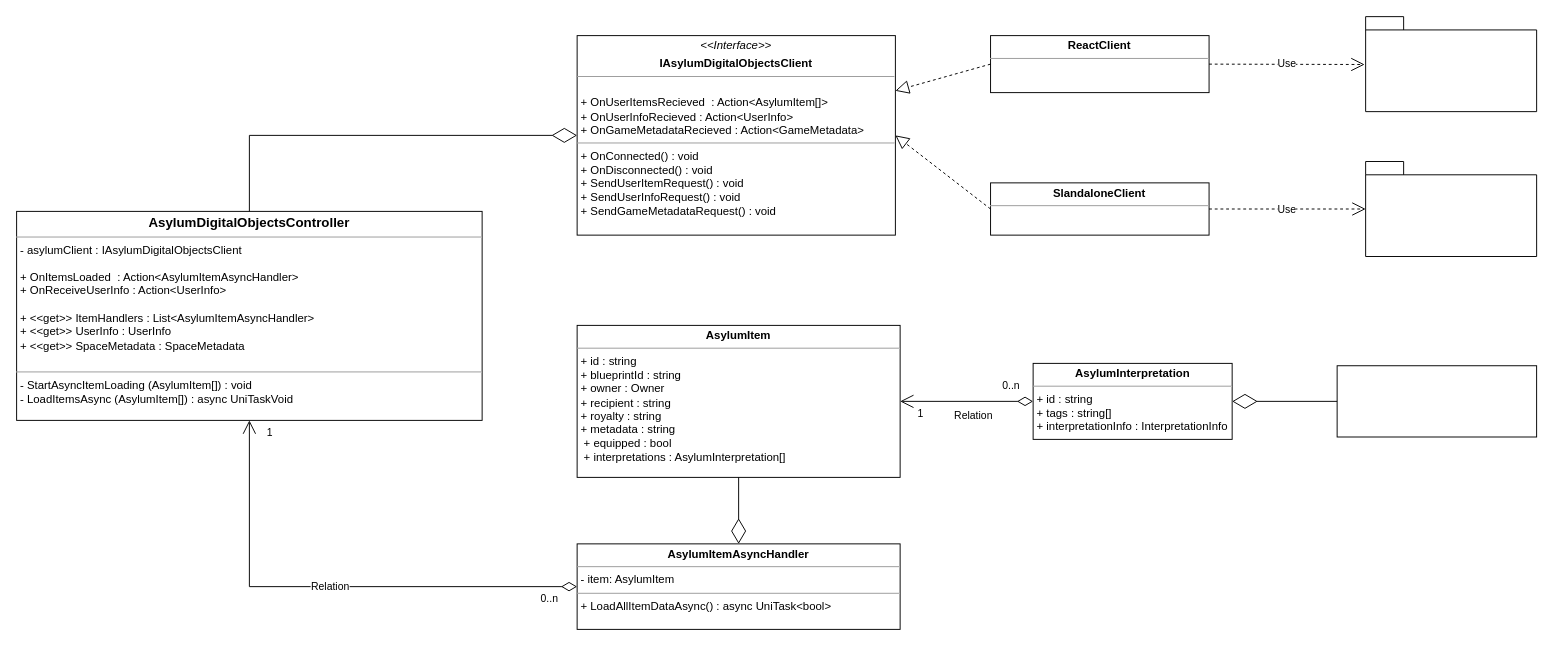
Some shapes in this 1553 by 646 pixel diagram are drawn without their labels. The centre of each missing label's shape, as x and y in pixels:
"Ajuna.NET API" goes at pixel 1451 208.
"InterpretationInfo + src : string + metadata : string" goes at pixel 1436 401.
"WebGL plugin (jslib)" goes at pixel 1451 64.
